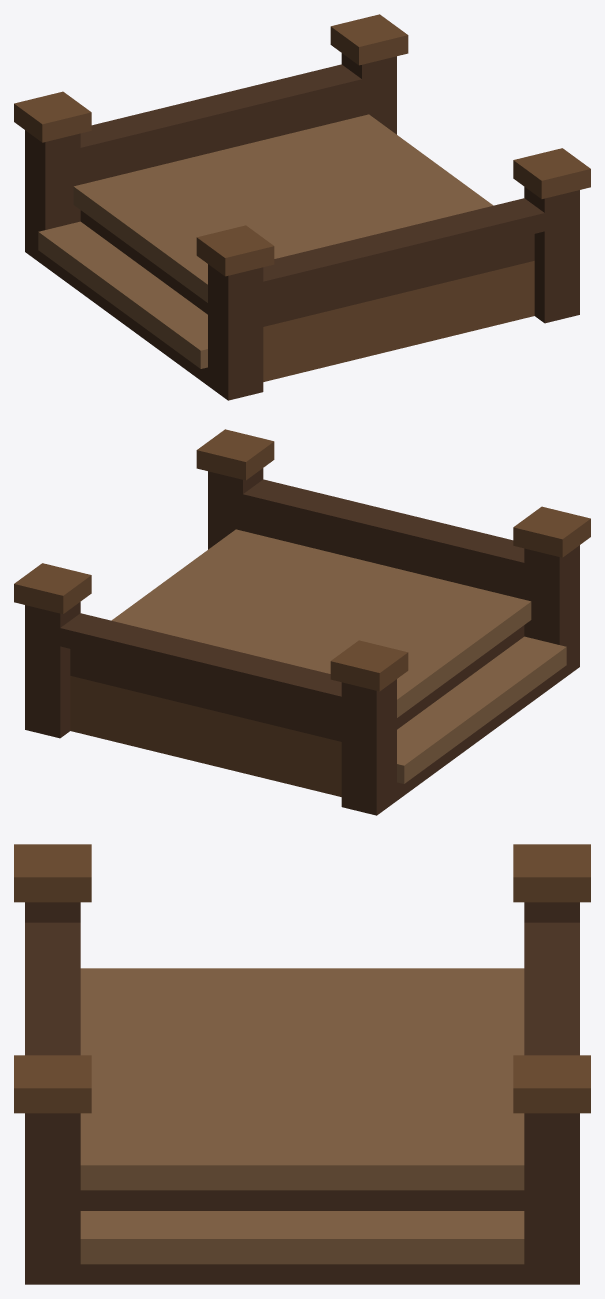
File: bridge.glb
The picture shows the model from 3 angles, top to bottom: view 1: azimuth 30°, elevation 25°; view 2: azimuth 150°, elevation 25°; view 3: azimuth 270°, elevation 25°; orthographic projection. The views are drawn at different scales.
Parts seen in each view (by area): view 1: bridge_wood; view 2: bridge_wood; view 3: bridge_wood.
Boxes of the visible parts, <box> form: bridge_wood: <box>14,14,590,400</box>; bridge_wood: <box>14,429,590,815</box>; bridge_wood: <box>14,844,590,1284</box>.
Size of the model in its own units: 1.04 by 0.4 by 1.04.
